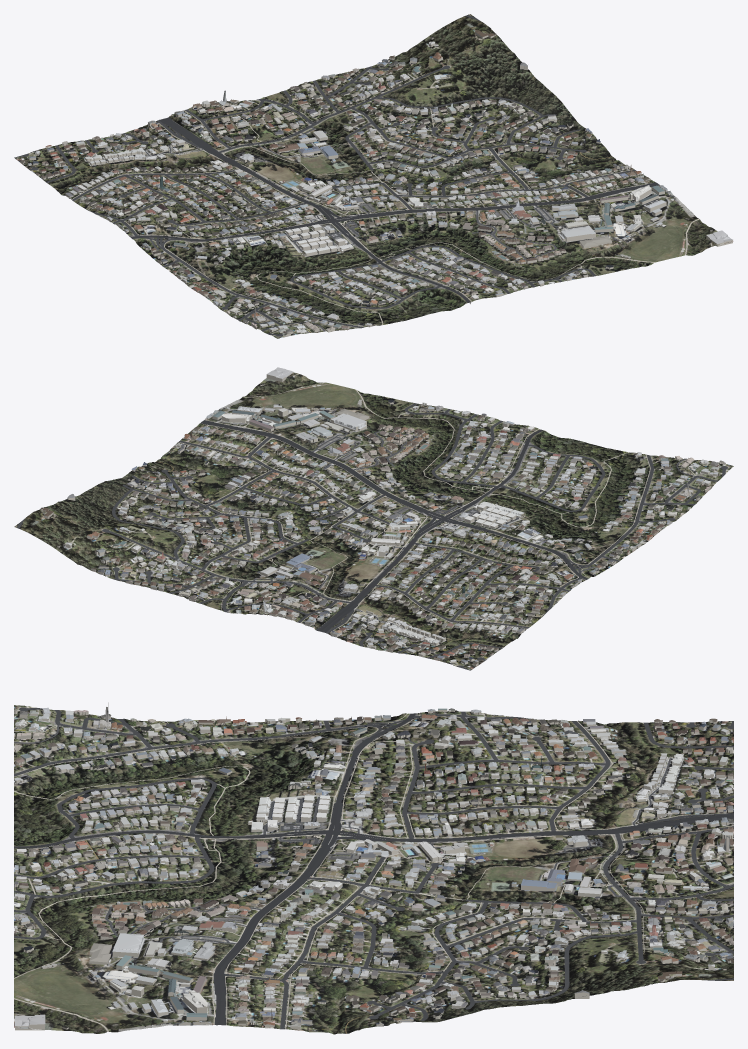
File: the_gap_yuruga_st.glb
3 views of the same model, one above another, from view 1: azimuth 30°, elevation 25°; view 2: azimuth 150°, elevation 25°; view 3: azimuth 270°, elevation 25° (orthographic). The views are drawn at different scales.
Parts seen in each view (by area): view 1: terrain, building_roofs, building_walls, roads; view 2: terrain, building_roofs, building_walls, roads; view 3: terrain, building_roofs, building_walls, roads.
Part boxes in pixels (x1,y1,x2,y2): terrain: (15, 14, 733, 338); building_roofs: (21, 30, 732, 335); building_walls: (20, 32, 732, 336); roads: (14, 15, 699, 336); terrain: (14, 372, 733, 669); building_roofs: (41, 367, 725, 664); building_walls: (40, 372, 725, 666); roads: (16, 382, 727, 670); terrain: (14, 705, 733, 1034); building_roofs: (14, 702, 733, 1028); building_walls: (14, 709, 733, 1030); roads: (14, 707, 733, 1033).
Bounding box in the file's own units: 1200 × 114 × 1200.
Materials: 4 (1 with a texture image).
